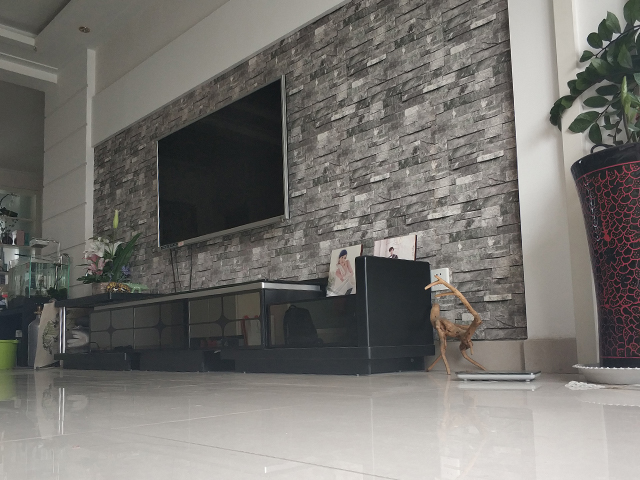cabinet: (50, 252, 438, 377)
